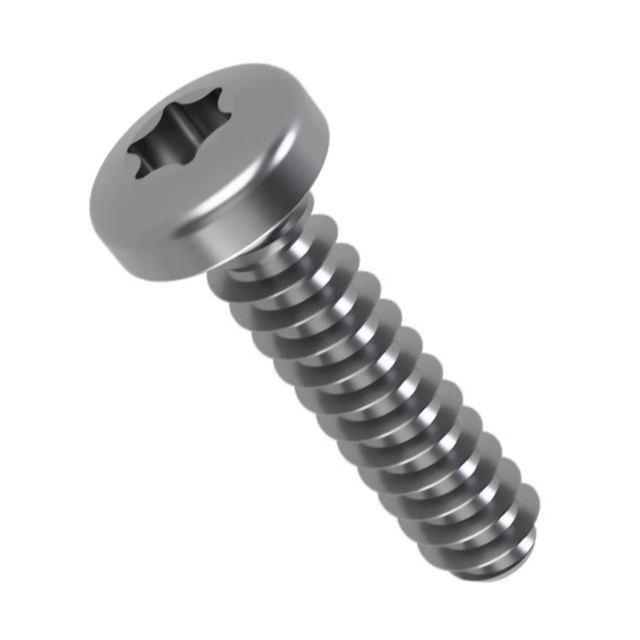torx: (88, 59, 332, 284)
